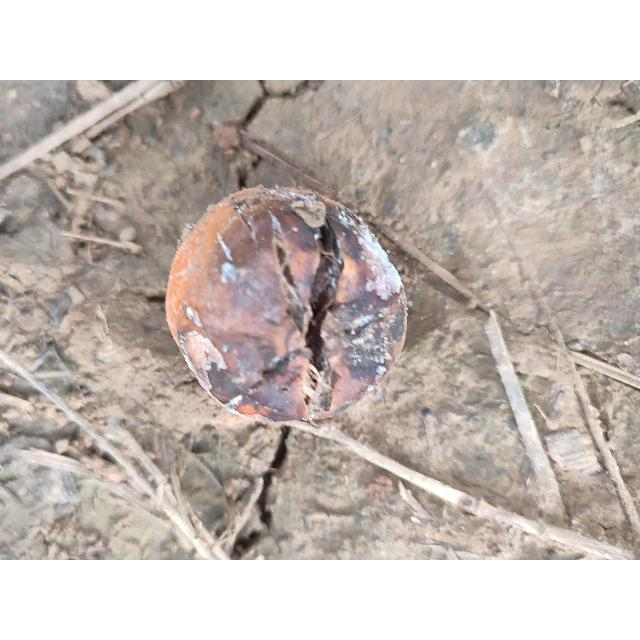damaged: (166, 185, 407, 422)
